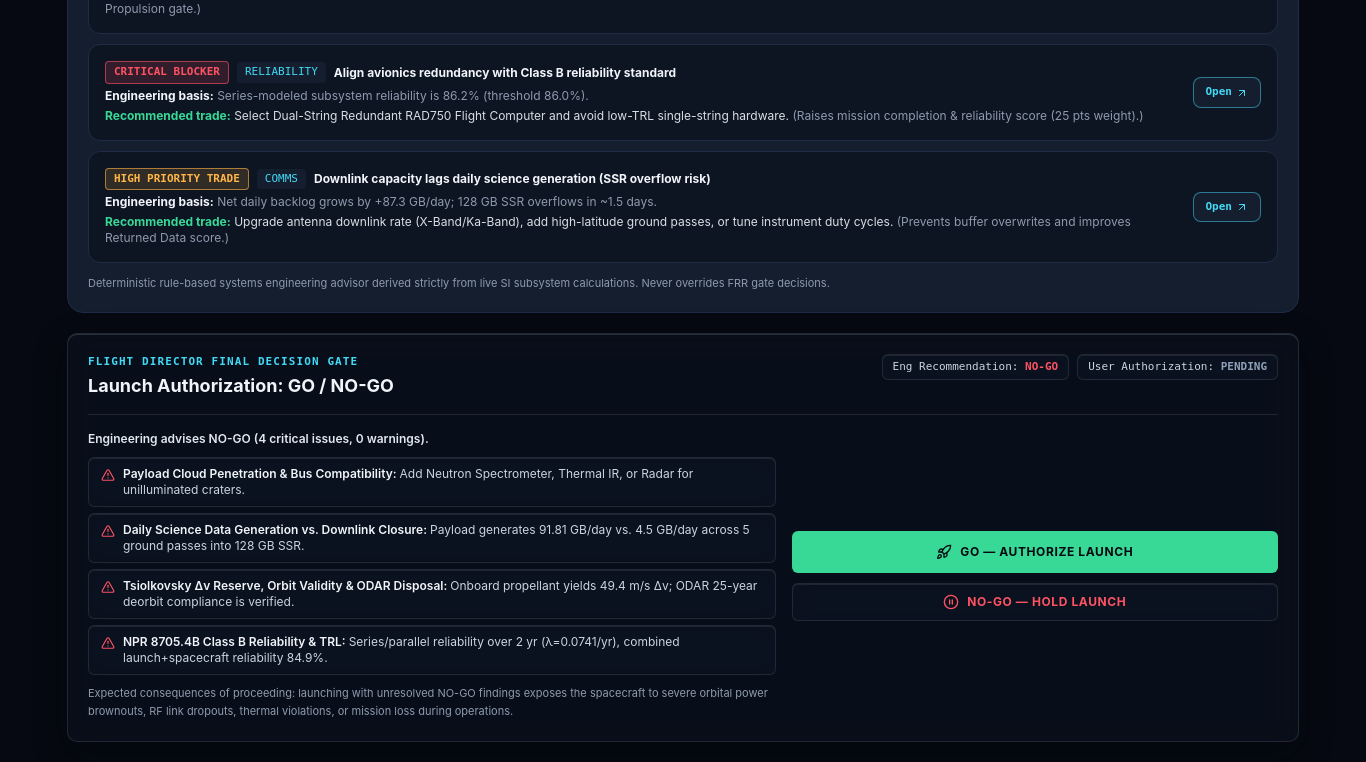
Test: React Component Tests — 6-Stage Shell, Advisory Decision, Planning Sheets & Leaderboard › keeps GO/NO-GO launch authorization in user hands even when engineering recommends NO-GO
Later steps or results of the test are not shown.
(page scrolled)
Expected: the button "NO-GO — Hold Launch" is enabled, [792,583,1278,621]
Clicking GO when NO-GO is recommended opens the risk acknowledgement dialog
Click the button "GO — Authorize Launch" at [1035, 552], box [792,531,1278,573]
(page scrolled)
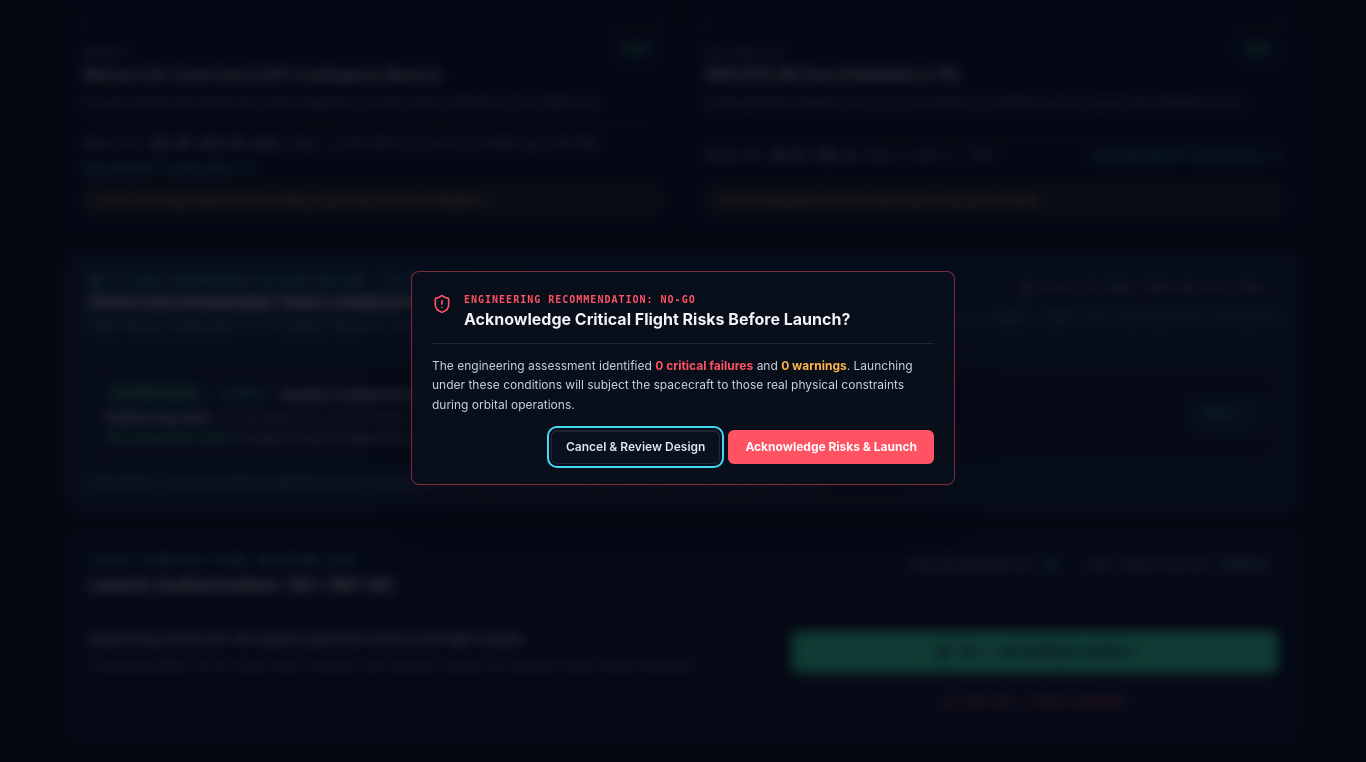
Expected: the heading "Acknowledge Critical Flight Risks Before Launch?" is shown, [464,307,850,331]
